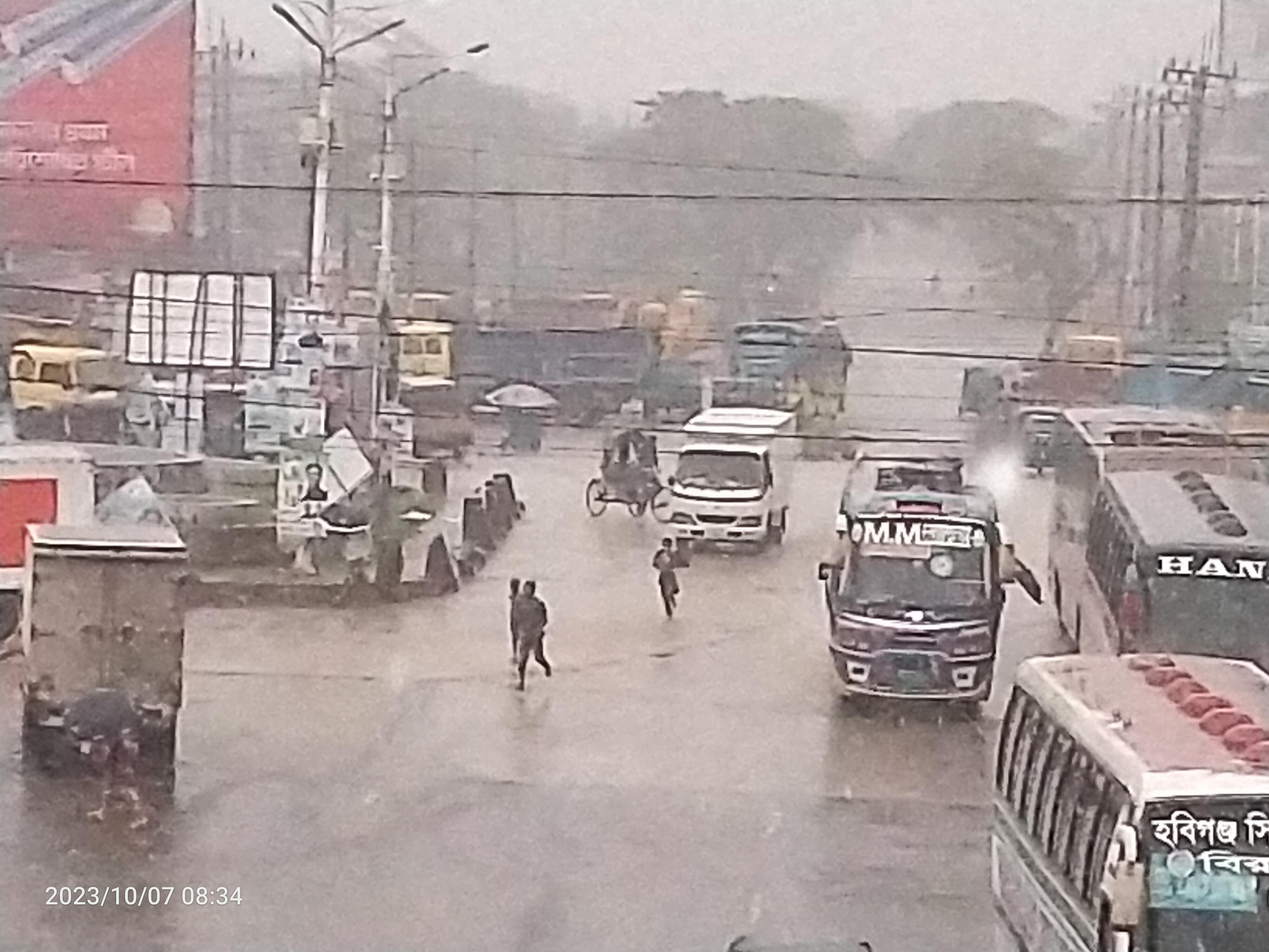Bus: (967, 636, 1269, 952), (807, 438, 1039, 757), (1065, 444, 1269, 699)
Car: (568, 402, 677, 544)
Truck: (0, 509, 233, 801), (363, 281, 668, 427), (663, 390, 808, 597), (0, 308, 153, 454)
